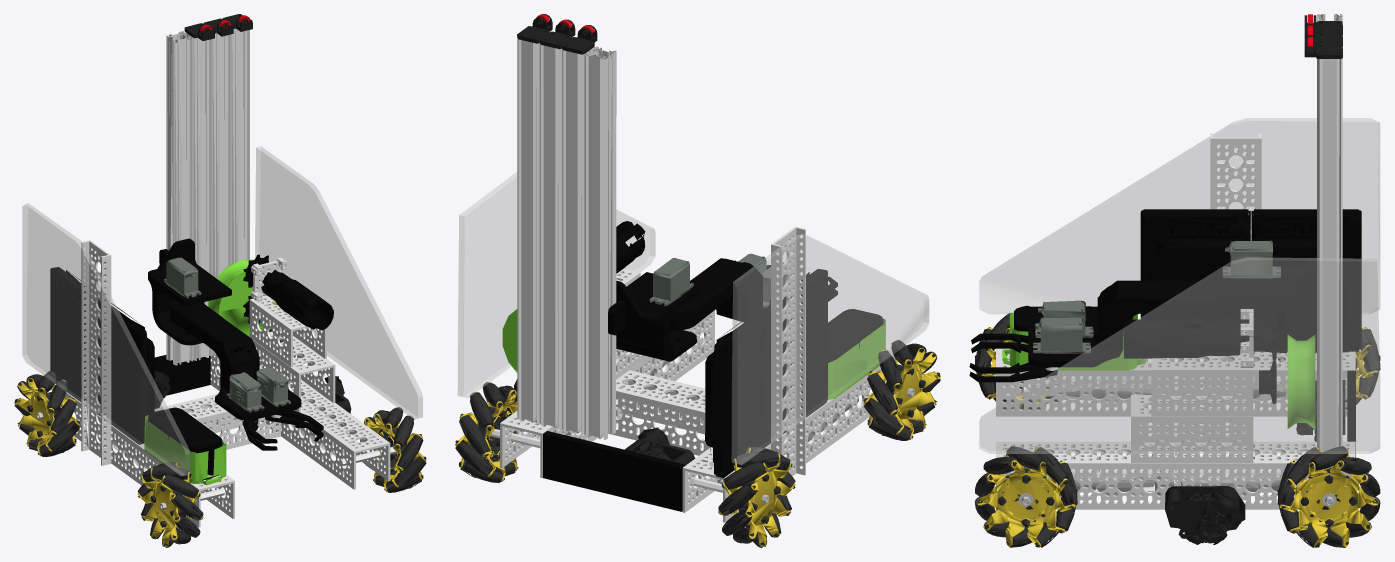
The model's file is sez6.glb.
3 views of the same model, side by side, from view 1: azimuth 30°, elevation 25°; view 2: azimuth 150°, elevation 25°; view 3: azimuth 270°, elevation 25° (orthographic). The views are drawn at different scales.
Parts seen in each view (by area): view 1: Plane, Plane.001, channel 10 gauri, glisiera.003, profil 13 gauri, REV-31-1153 v1.001, Gheara-sup, glisiera.002, glisiera.001, glisiera, REV-31-1153 v1, Prindere-gh-de-gls (+19 smaller); view 2: Plane, glisiera.003, Plane.001, glisiera.002, glisiera, glisiera.001, REV-31-1153 v1, channel 10 gauri, Plane.023, profil 6 gauri.001, Prindere-gh-de-gls, profil 13 gauri.001 (+18 smaller); view 3: Plane.001, Plane, profil 13 gauri, glisiera, profil 13 gauri.001, REV-31-1153 v1.001, REV-31-1153 v1, Gheara-sup, profil 6 gauri.002, 3 gauri, 5202-0002-0001 v1, Prindere-gh-de-gls (+25 smaller).
Boxes of the visible parts, x1,y1,x2,y2 form: Plane: [22, 203, 189, 475]; Plane.001: [255, 146, 422, 419]; channel 10 gauri: [81, 240, 111, 465]; glisiera.003: [166, 31, 192, 365]; profil 13 gauri: [210, 354, 390, 489]; REV-31-1153 v1.001: [97, 300, 154, 444]; Gheara-sup: [170, 299, 301, 420]; glisiera.002: [186, 32, 211, 360]; glisiera.001: [212, 32, 230, 356]; glisiera: [231, 28, 249, 264]; REV-31-1153 v1: [50, 267, 99, 405]; Prindere-gh-de-gls: [148, 238, 231, 345]; Plane: [732, 234, 928, 464]; glisiera.003: [584, 46, 616, 439]; Plane.001: [458, 172, 655, 397]; glisiera.002: [562, 47, 593, 434]; glisiera: [517, 38, 539, 423]; glisiera.001: [539, 44, 561, 428]; REV-31-1153 v1: [705, 307, 770, 478]; channel 10 gauri: [771, 226, 805, 476]; Plane.023: [543, 431, 685, 511]; profil 6 gauri.001: [608, 370, 710, 455]; Prindere-gh-de-gls: [608, 272, 702, 361]; profil 13 gauri.001: [682, 349, 897, 522]; Plane.001: [979, 257, 1380, 453]; Plane: [979, 118, 1380, 313]; profil 13 gauri: [996, 441, 1355, 509]; glisiera: [1317, 58, 1342, 451]; profil 13 gauri.001: [996, 348, 1355, 416]; REV-31-1153 v1.001: [1140, 209, 1250, 321]; REV-31-1153 v1: [1251, 209, 1361, 353]; Gheara-sup: [1028, 280, 1260, 367]; profil 6 gauri.002: [1131, 395, 1253, 462]; 3 gauri: [1151, 349, 1253, 416]; 5202-0002-0001 v1: [1124, 319, 1259, 358]; Prindere-gh-de-gls: [1217, 257, 1316, 350].
Size of the model in its own units: 21.63 by 31.27 by 24.
